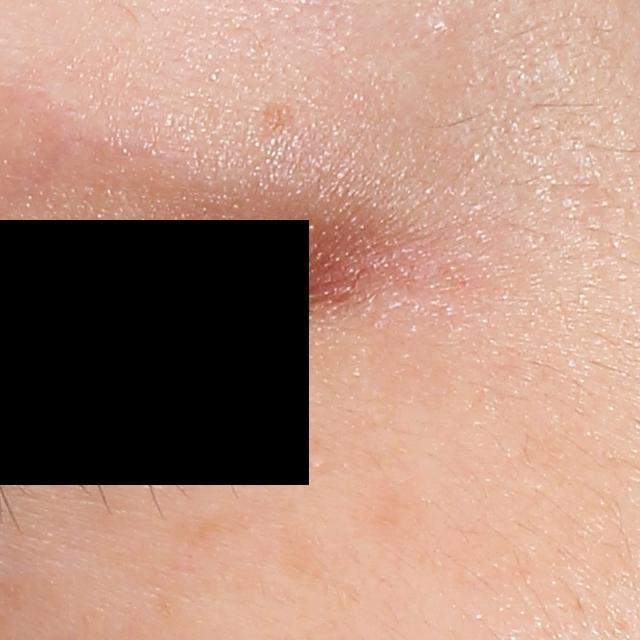comedo: (432, 16, 456, 38)
melasma: (126, 511, 260, 588), (271, 524, 321, 587), (264, 100, 303, 143)
